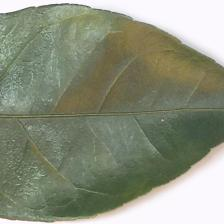healthy: (2, 13, 177, 169)
